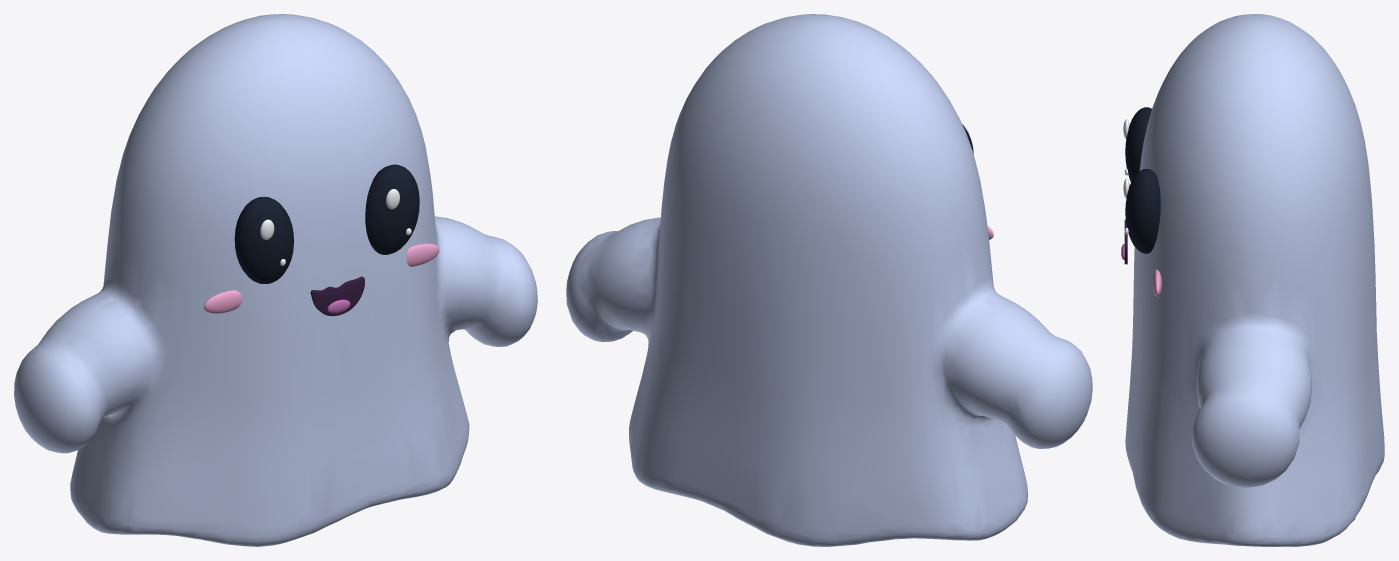
The model's file is ReferenceGhost.fbx.
3 views of the same model, side by side, from view 1: azimuth 30°, elevation 25°; view 2: azimuth 150°, elevation 25°; view 3: azimuth 270°, elevation 25° (orthographic). The views are drawn at different scales.
Visible parts, largest first — view 1: ReferenceGhost_Pearlescentperiwinkle, ReferenceGhost_Glossymidnighteyes, ReferenceGhost_Roseblush, ReferenceGhost_Smilevelvet; view 2: ReferenceGhost_Pearlescentperiwinkle; view 3: ReferenceGhost_Pearlescentperiwinkle, ReferenceGhost_Glossymidnighteyes.
Boxes of the visible parts, left/top/right/bottom form: ReferenceGhost_Pearlescentperiwinkle: left=14, top=14, right=537, bottom=546; ReferenceGhost_Glossymidnighteyes: left=234, top=164, right=419, bottom=283; ReferenceGhost_Roseblush: left=203, top=243, right=439, bottom=313; ReferenceGhost_Smilevelvet: left=310, top=276, right=364, bottom=316; ReferenceGhost_Pearlescentperiwinkle: left=566, top=14, right=1092, bottom=546; ReferenceGhost_Pearlescentperiwinkle: left=1125, top=14, right=1384, bottom=546; ReferenceGhost_Glossymidnighteyes: left=1125, top=107, right=1160, bottom=253.
Bounding box in the file's own units: 4.49 × 3.97 × 2.11.
